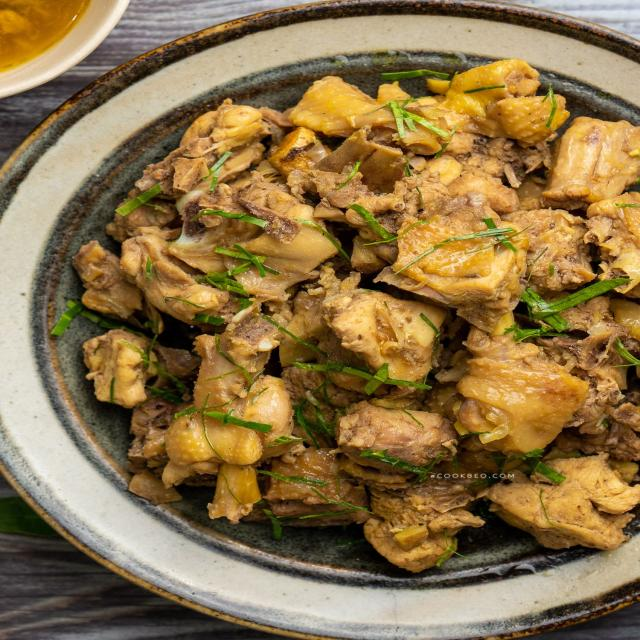ga kho: (73, 59, 640, 571)
